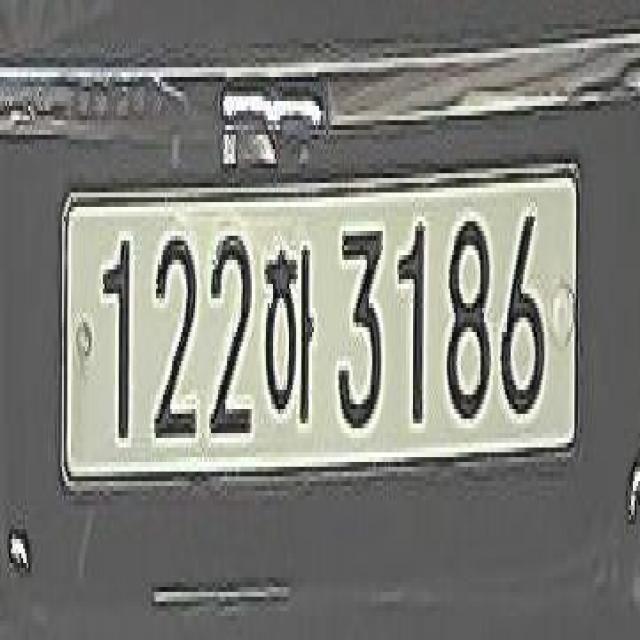illegal_plate: (60, 162, 579, 506)
